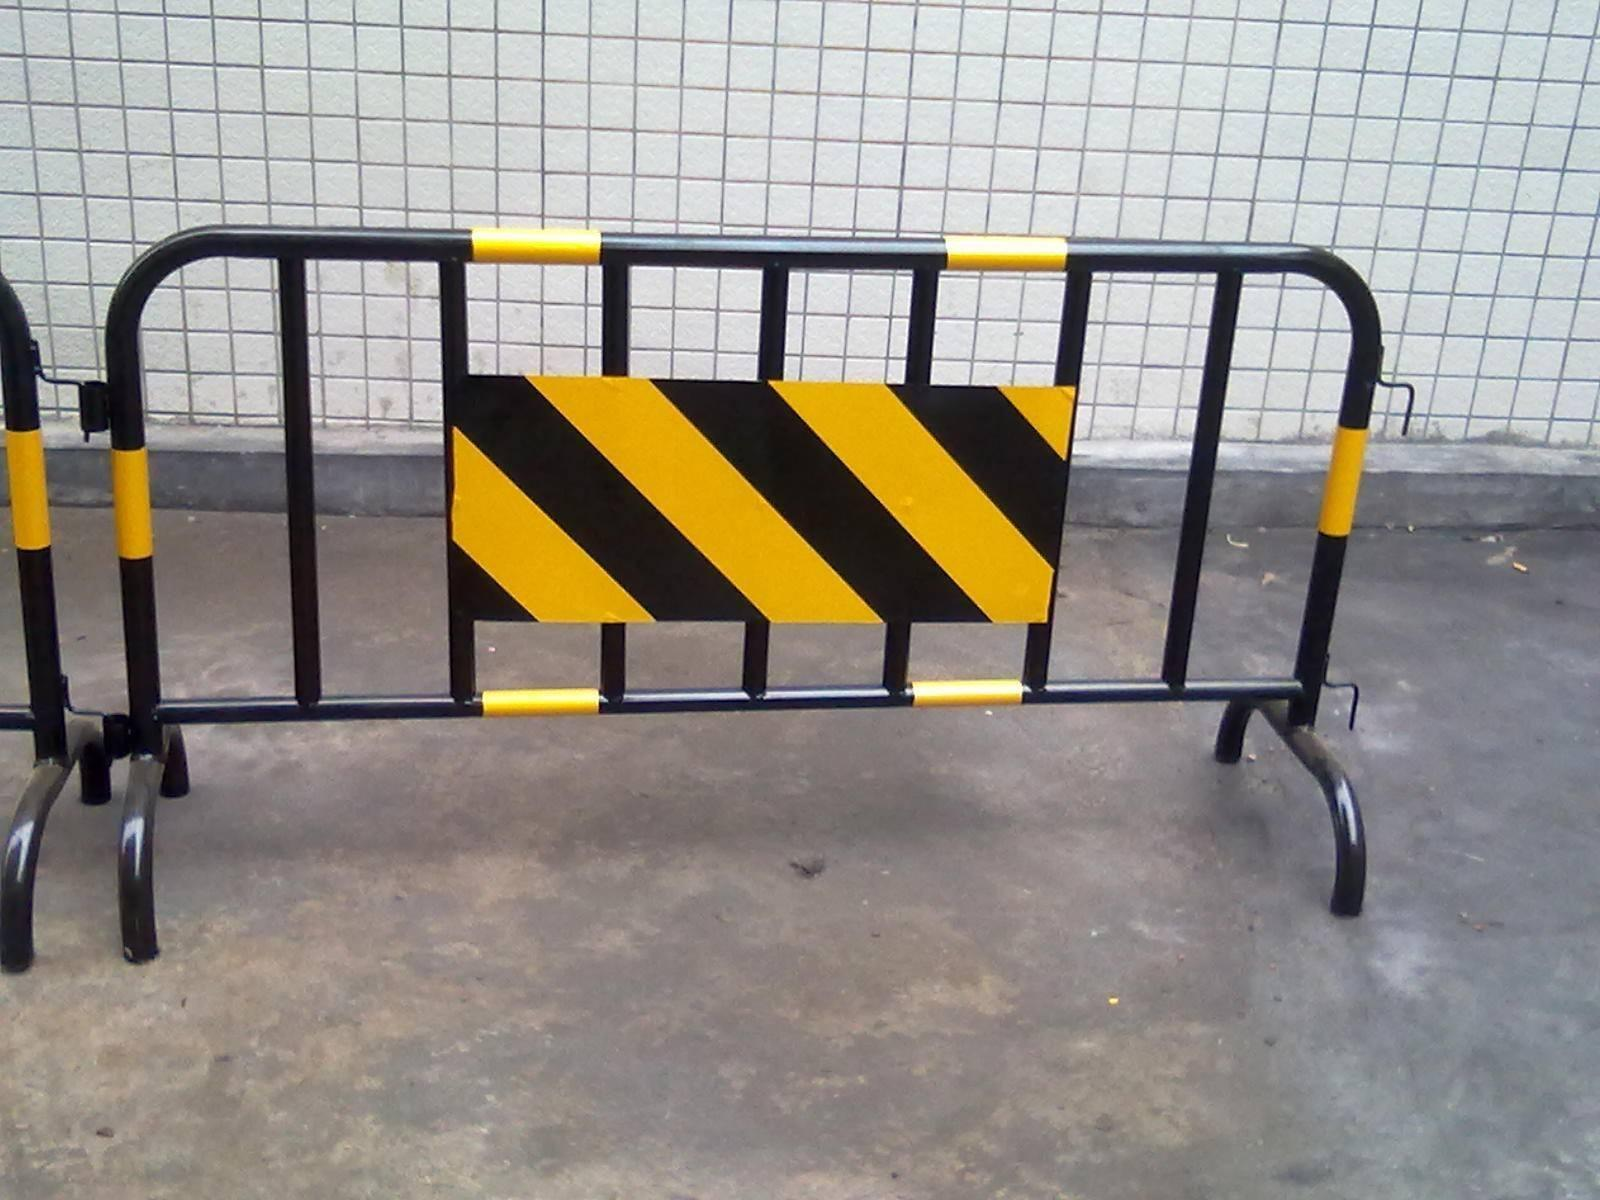sign: (57, 202, 1502, 976)
